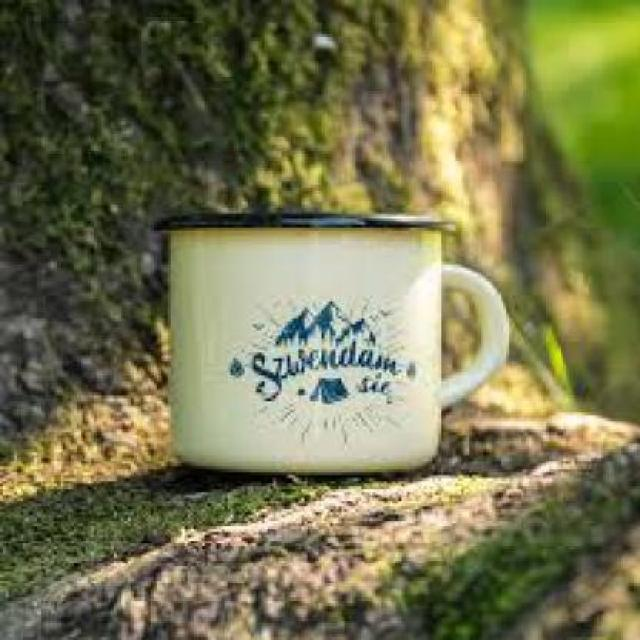cup: (151, 203, 518, 482)
